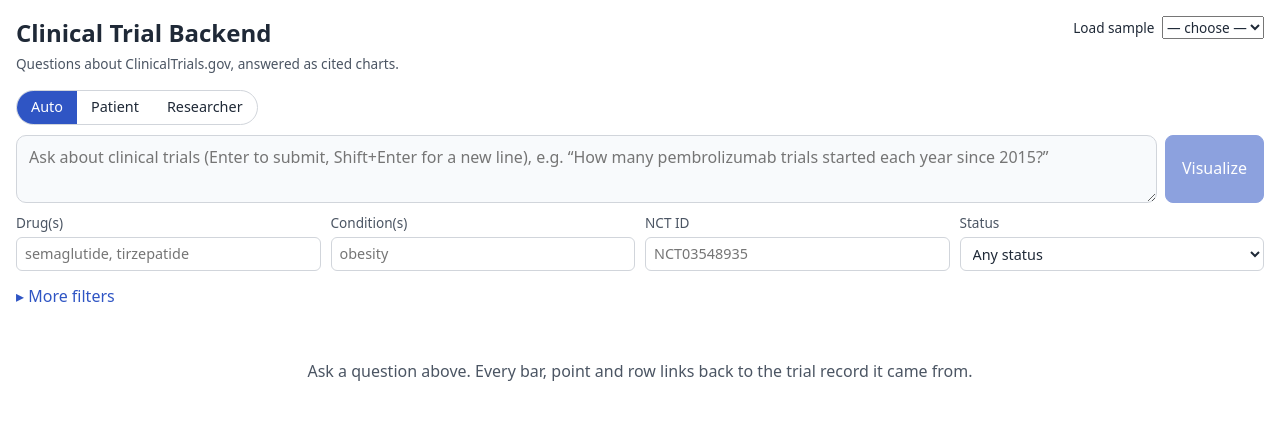
Test: 10. robustness › shows a Retry-After hint for 503
The image size is (1280, 435).
Replace the text in the text box named "Question" with "q" at (586, 169), box left=16, top=135, right=1157, bottom=203
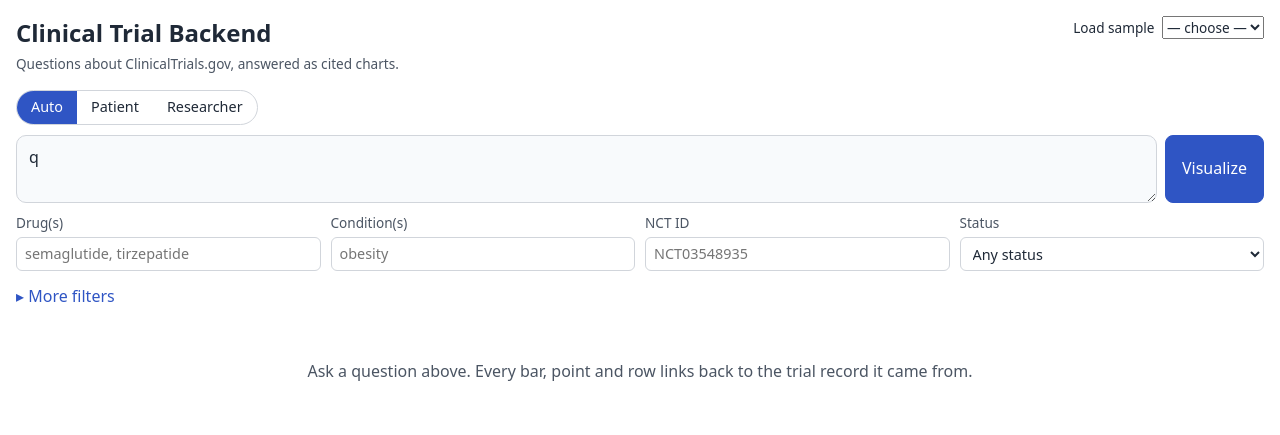
Click the button "Visualize".
click(1214, 169)  # box left=1165, top=135, right=1264, bottom=203
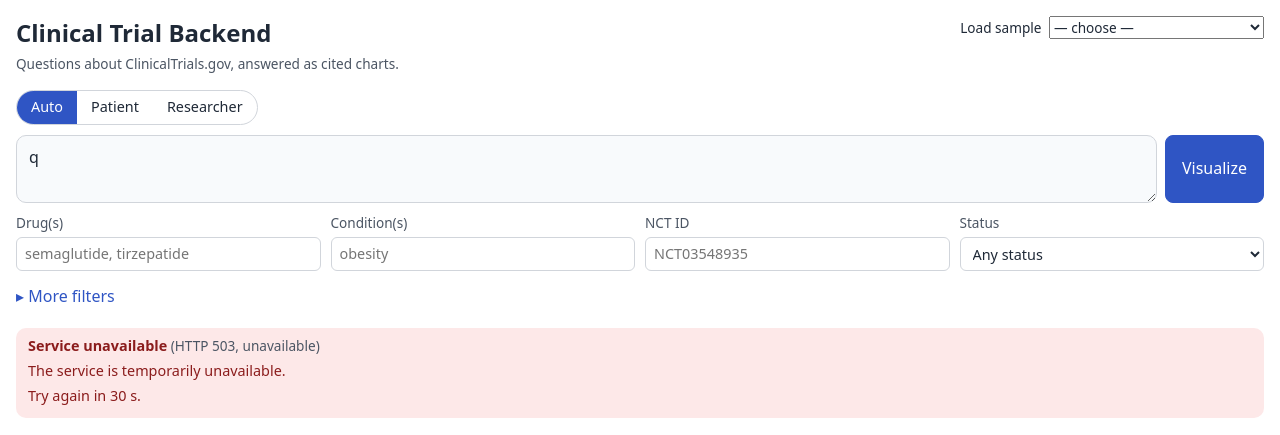
Check: the text "Service unavailable" is shown, box left=28, top=336, right=167, bottom=355
Check: the text "Try again in 30 s." is shown, box left=28, top=386, right=141, bottom=405
